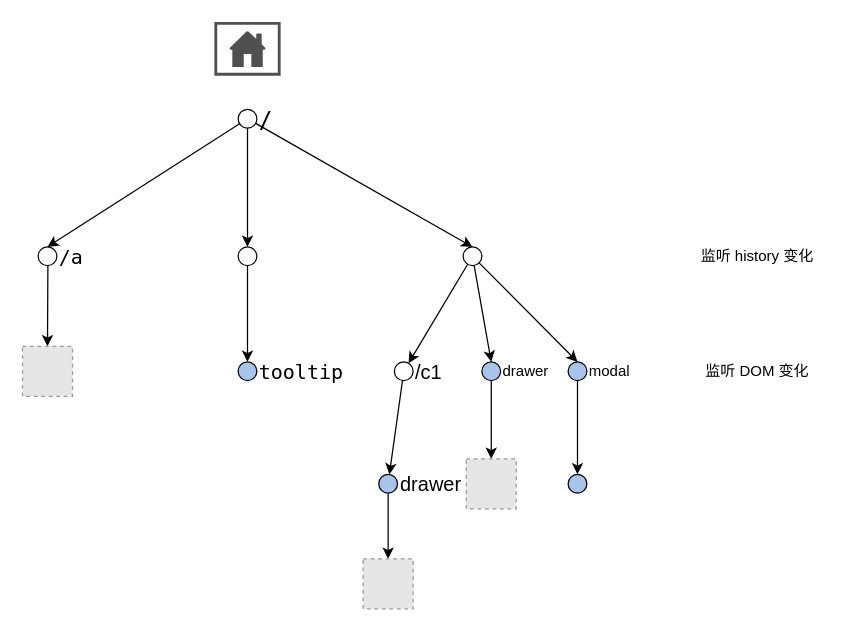
Image size: 846x630. Some labels were removed from this diagram. Grey dashed boxes stand in for pictures. The shapes that lost their labels are listed below. From the top down, each one's box as (x1, y1, x2, y2) in pixels, then its label:
(237, 246, 257, 266): /b
(462, 246, 482, 266): /c
(567, 473, 587, 493): toast
